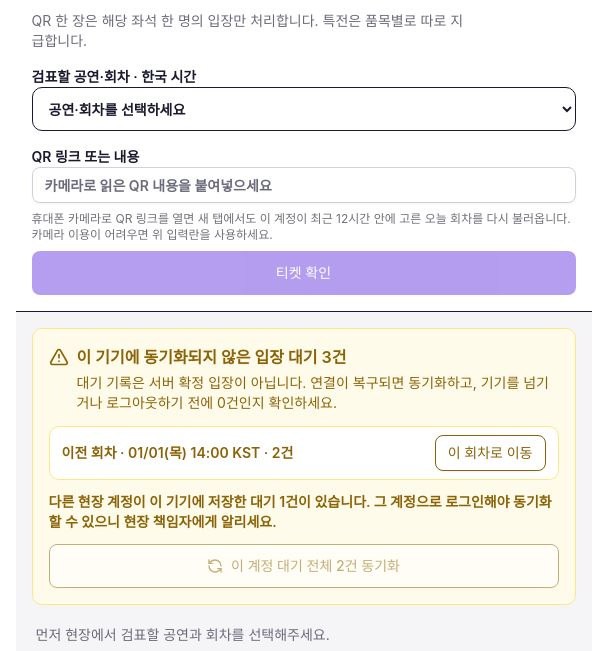
Test case: FieldCheckInPage device-wide pending entries (#117) › shows unsynced entries of other showtimes and accounts before any showtime is chosen
Check: the text "이 기기에 동기화되지 않은 입장 대기 3건" is shown, box [76,347,346,367]
Check: the text "이전 회차 · 01/01(목) 14:00 KST · 2건" is shown, box [62,443,293,463]
Click the button "이 회차로 이동". click: [490, 453]
box: [435,435,546,471]
(page scrolled)
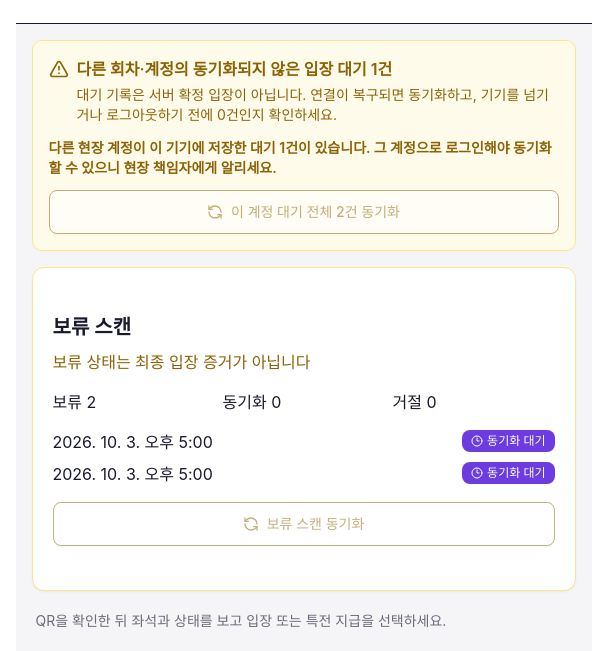
Check: the text "보류 스캔" is shown, box [52,315,131,339]
